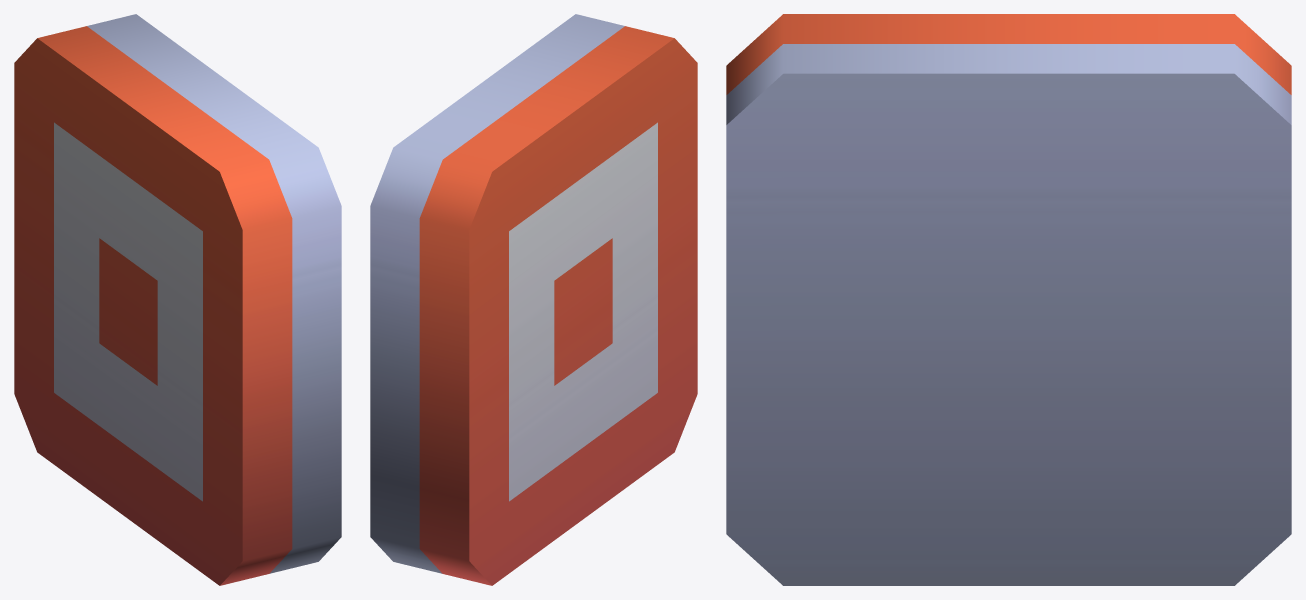
File: kenney-prototype-target-a-square.glb
3 renders of one model, left to right at view 1: azimuth 30°, elevation 25°; view 2: azimuth 150°, elevation 25°; view 3: azimuth 270°, elevation 25°, orthographic. The views are drawn at different scales.
Visible parts, largest first — view 1: target-a-square; view 2: target-a-square; view 3: target-a-square.
Boxes of the visible parts, x1,y1,x2,y2 form: target-a-square: (14,14,341,585); target-a-square: (370,14,697,585); target-a-square: (726,14,1291,585).
Bounding box in the file's own units: 0.124 × 0.496 × 0.496.
Materials: 1 (1 with a texture image).
